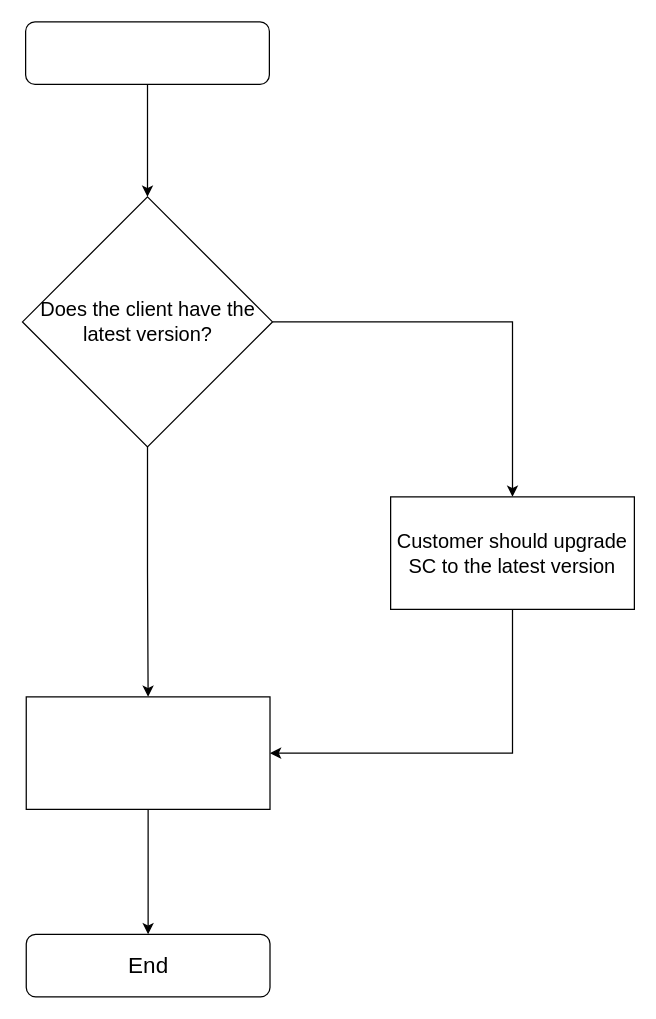
Some shapes in this 656 by 1019 pixel diagram are drawn without their labels. The shapes that lost their labels are listed below. From the top down, each one's box as (x1, y1, x2, y2) in pixels, then its label:
(24, 21, 269, 84): Begin
(25, 696, 270, 809): Execute Migration Procedure
